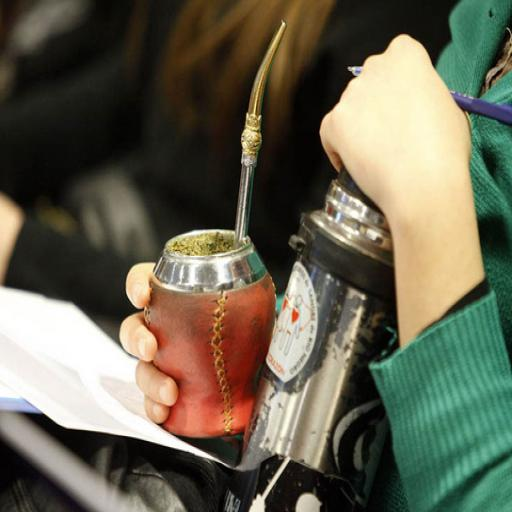mate: (145, 198, 270, 428)
termo: (225, 171, 395, 511)
